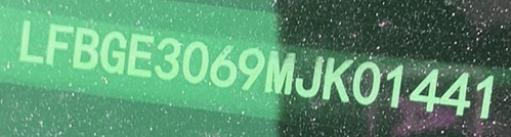letter: (439, 68, 474, 118), (263, 46, 296, 97), (408, 67, 443, 114), (320, 55, 353, 104), (350, 59, 382, 106), (294, 54, 325, 99), (45, 21, 75, 67), (99, 28, 128, 75), (126, 32, 155, 79), (181, 38, 210, 85), (209, 42, 238, 89), (152, 36, 181, 81), (236, 46, 265, 91), (17, 17, 44, 65), (71, 24, 98, 71), (474, 72, 495, 121), (384, 61, 404, 110)
